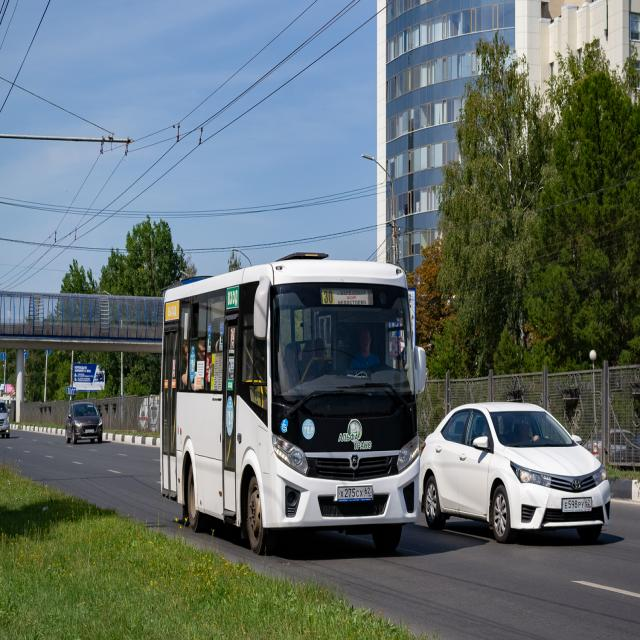number-of-bus: (322, 289, 337, 308)
